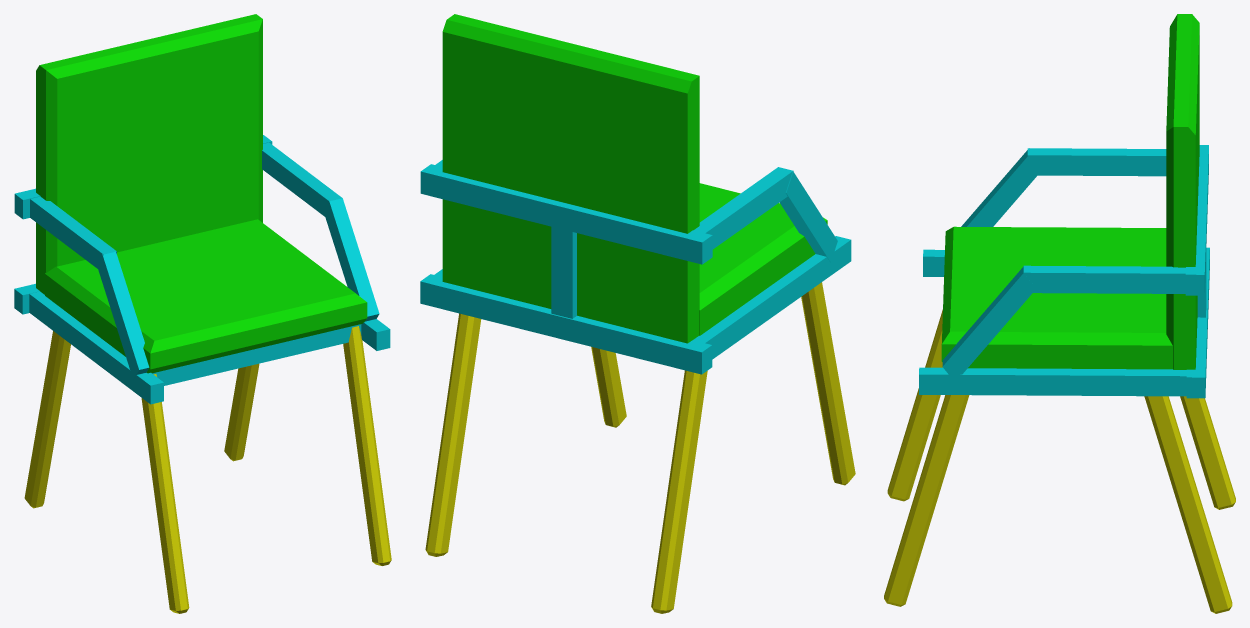
The model's file is Chair01.fbx.
3 views of the same model, side by side, from view 1: azimuth 30°, elevation 25°; view 2: azimuth 150°, elevation 25°; view 3: azimuth 270°, elevation 25° (orthographic). The views are drawn at different scales.
Visible parts, largest first — view 1: polySurface77; view 2: polySurface77; view 3: polySurface77.
Boxes of the visible parts, x1=… form: polySurface77: x1=14, y1=14, x2=391, y2=613; polySurface77: x1=420, y1=14, x2=855, y2=613; polySurface77: x1=884, y1=14, x2=1235, y2=613.
Size of the model in its own units: 65.23 by 114 by 74.69.
